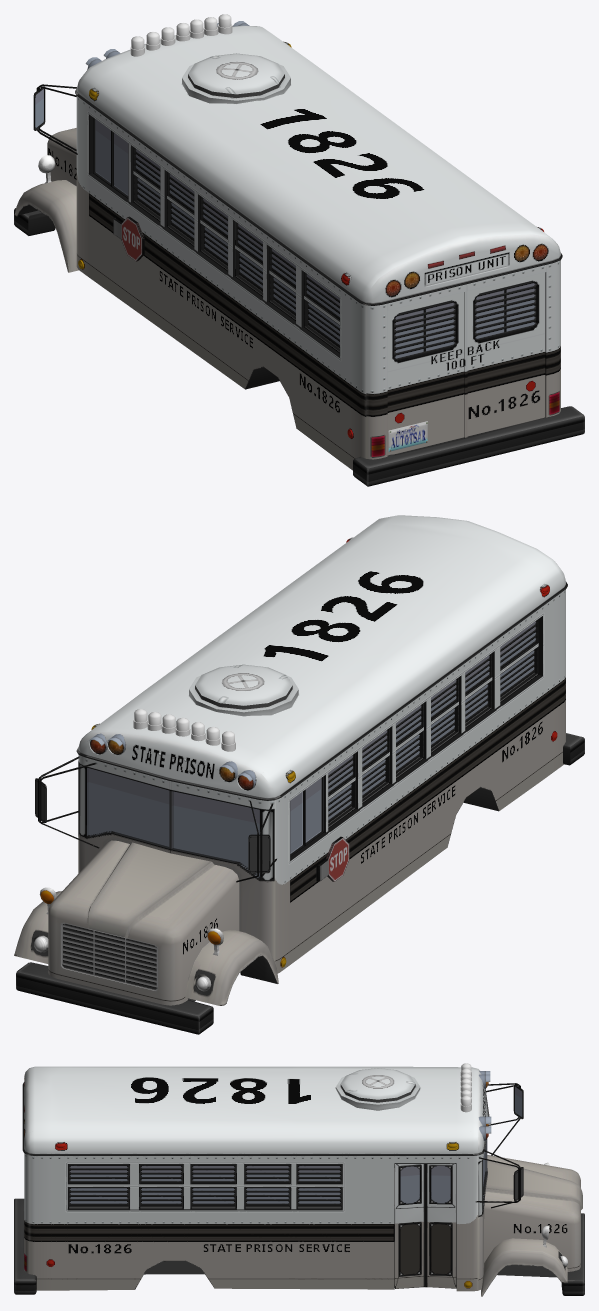
File: ATA_Bus.fbx
3 renders of one model, top to bottom at view 1: azimuth 30°, elevation 25°; view 2: azimuth 150°, elevation 25°; view 3: azimuth 270°, elevation 25°, orthographic. The views are drawn at different scales.
Parts seen in each view (by area): view 1: Body, Lightbar; view 2: Body, Lightbar; view 3: Body, Lightbar.
Boxes of the visible parts, <box> form: Body: <box>14,21,584,486</box>; Lightbar: <box>130,14,232,56</box>; Body: <box>14,515,584,1034</box>; Lightbar: <box>133,709,235,751</box>; Body: <box>14,1066,584,1296</box>; Lightbar: <box>460,1063,471,1112</box>.
Bounding box in the file's own units: 118 × 114 × 321.
